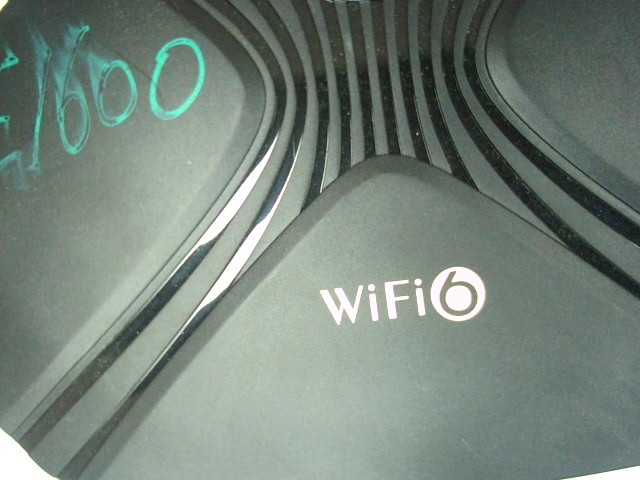AK_ZTEWIFI6Black: (313, 261, 498, 326)
